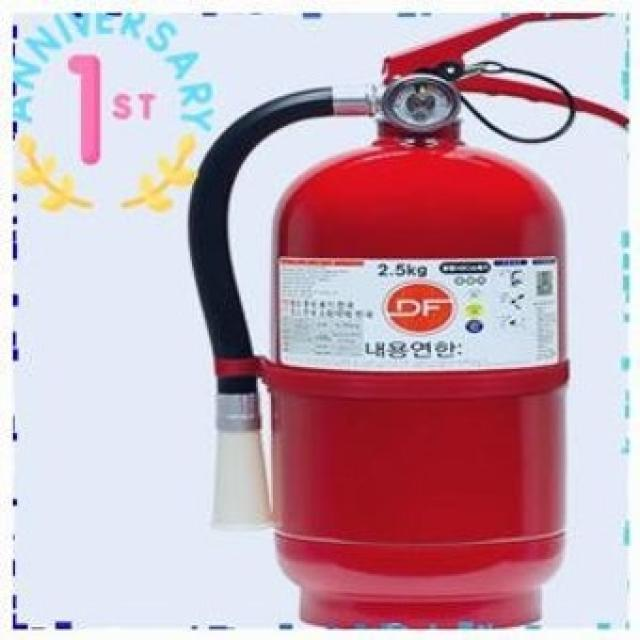pressure gauge: (381, 76, 461, 133)
